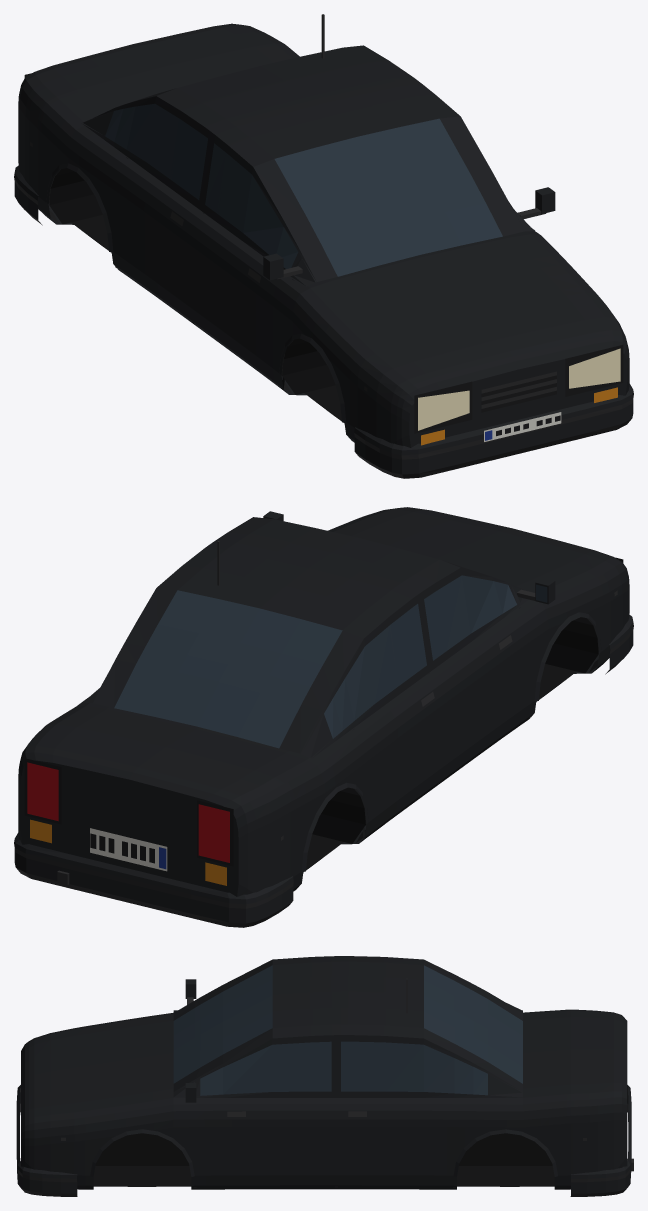
Rendered from mercedes-clase-c.glb.
3 views of the same model, one above another, from view 1: azimuth 30°, elevation 25°; view 2: azimuth 150°, elevation 25°; view 3: azimuth 270°, elevation 25° (orthographic). The views are drawn at different scales.
Visible parts, largest first — view 1: LOD0, door_FR, door_RR; view 2: LOD0, door_FR, door_RR; view 3: LOD0, door_FL, door_RL.
Boxes of the visible parts, <box> form: LOD0: <box>14,14,633,478</box>; door_FR: <box>190,135,302,386</box>; door_RR: <box>113,96,209,318</box>; LOD0: <box>14,507,633,927</box>; door_FR: <box>423,567,533,779</box>; door_RR: <box>344,595,441,836</box>; LOD0: <box>16,956,633,1196</box>; door_FL: <box>195,1035,334,1185</box>; door_RL: <box>338,1035,454,1185</box>.
Size of what is drawn, in the model's own units: 1.92 by 1.58 by 4.63.
